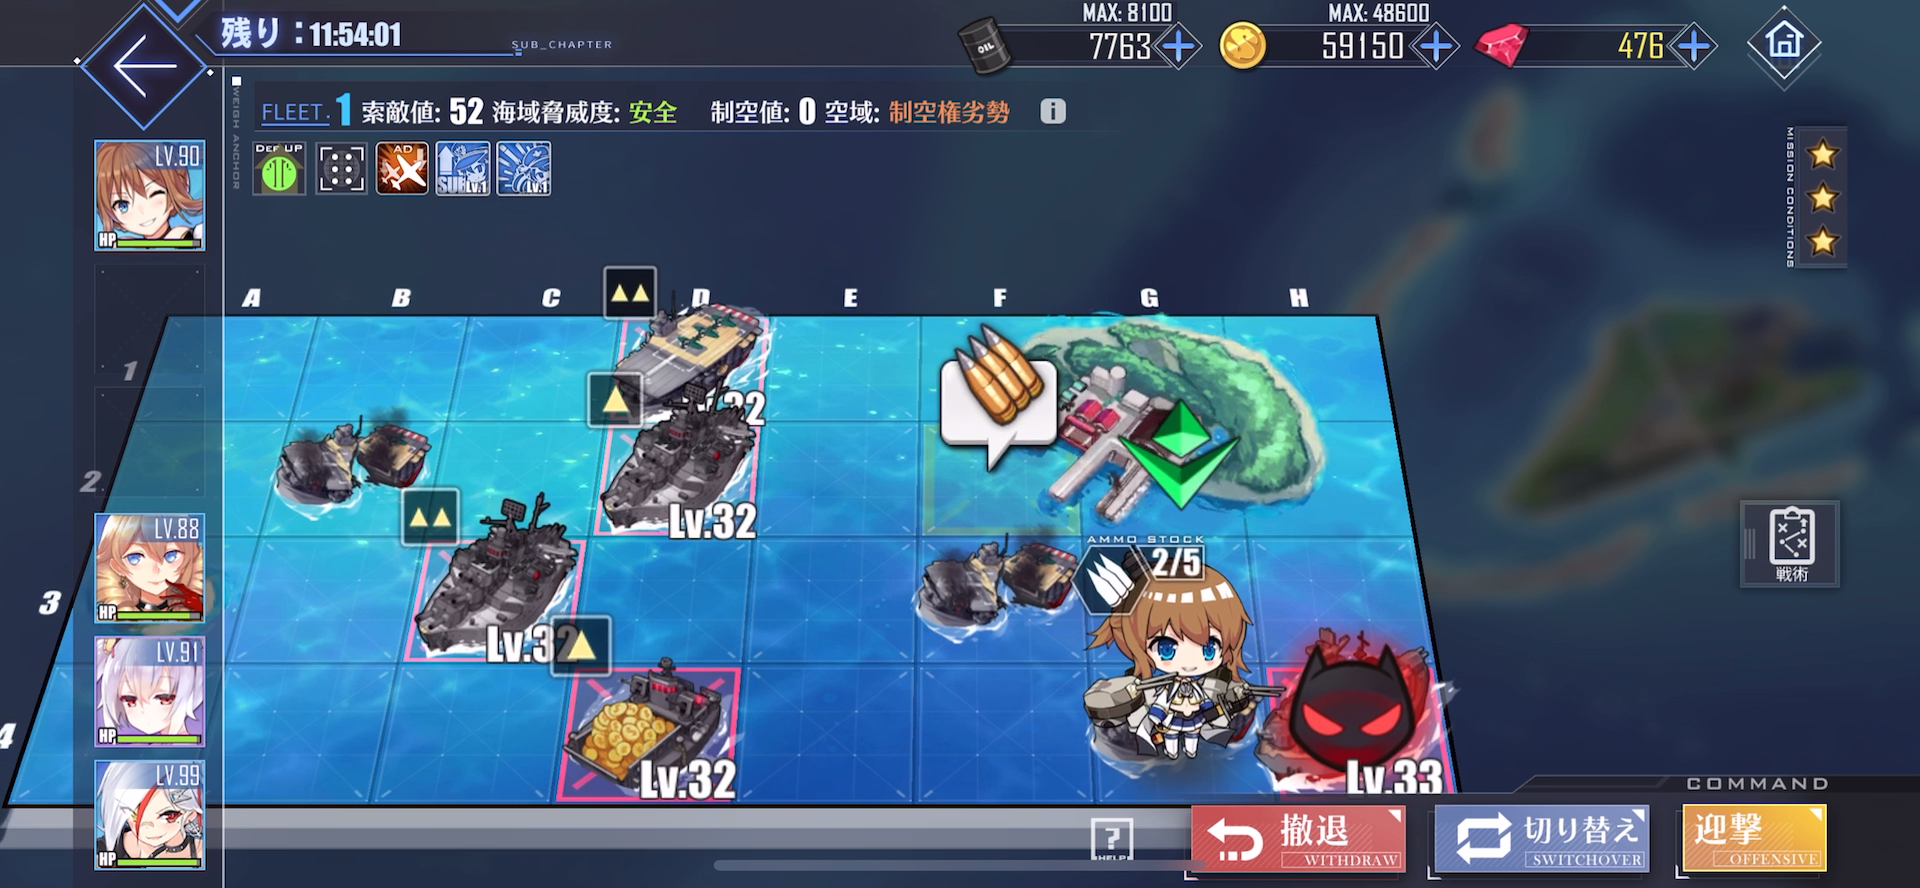boss: (1251, 630, 1451, 799)
